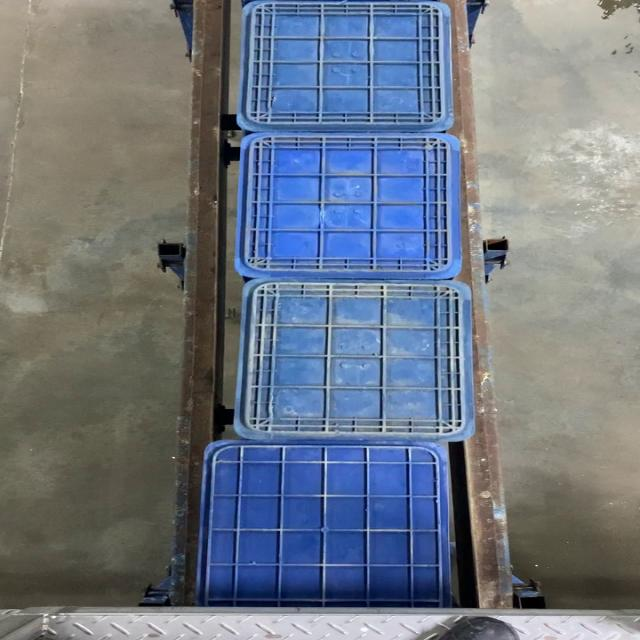Box: (235, 279, 477, 441), (231, 131, 469, 279), (233, 0, 455, 132)
